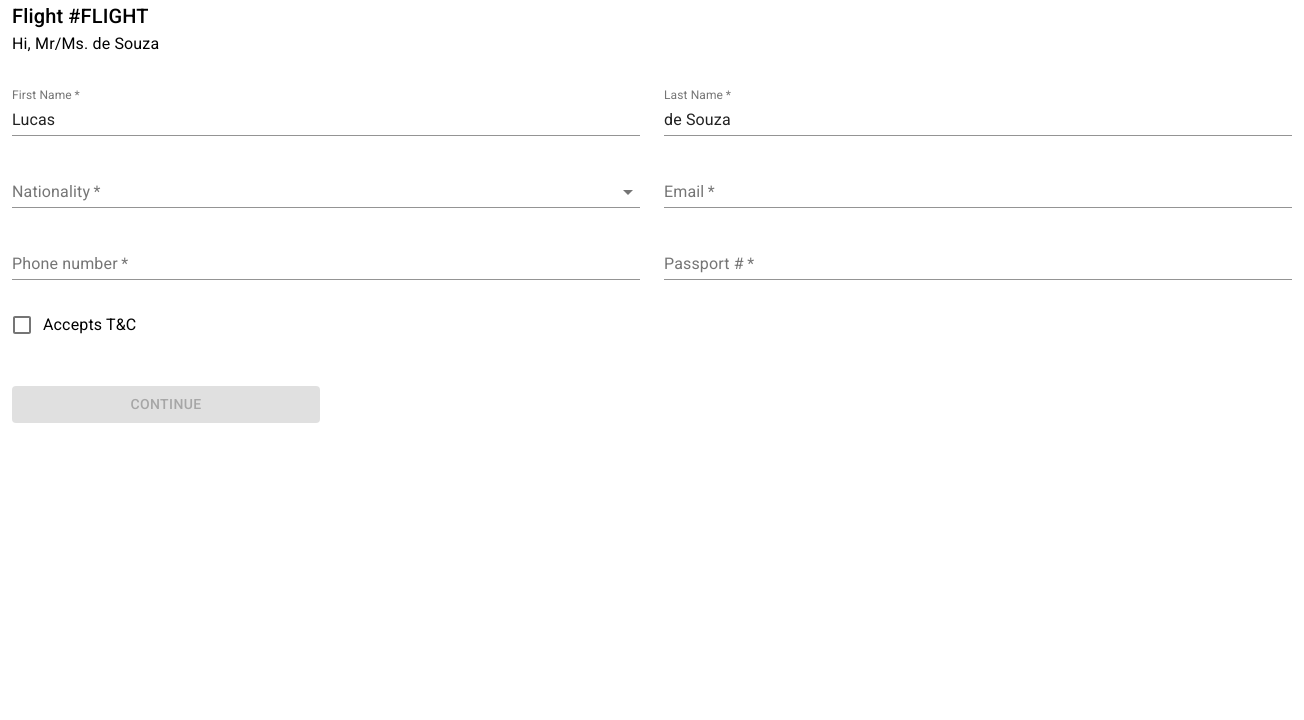
User Info form › should display France extra fields
The width and height of the screenshot is (1304, 720).
Select "France" in the dropdown with test id "nationality" at (326, 192), box x1=12 y1=176 x2=640 y2=208
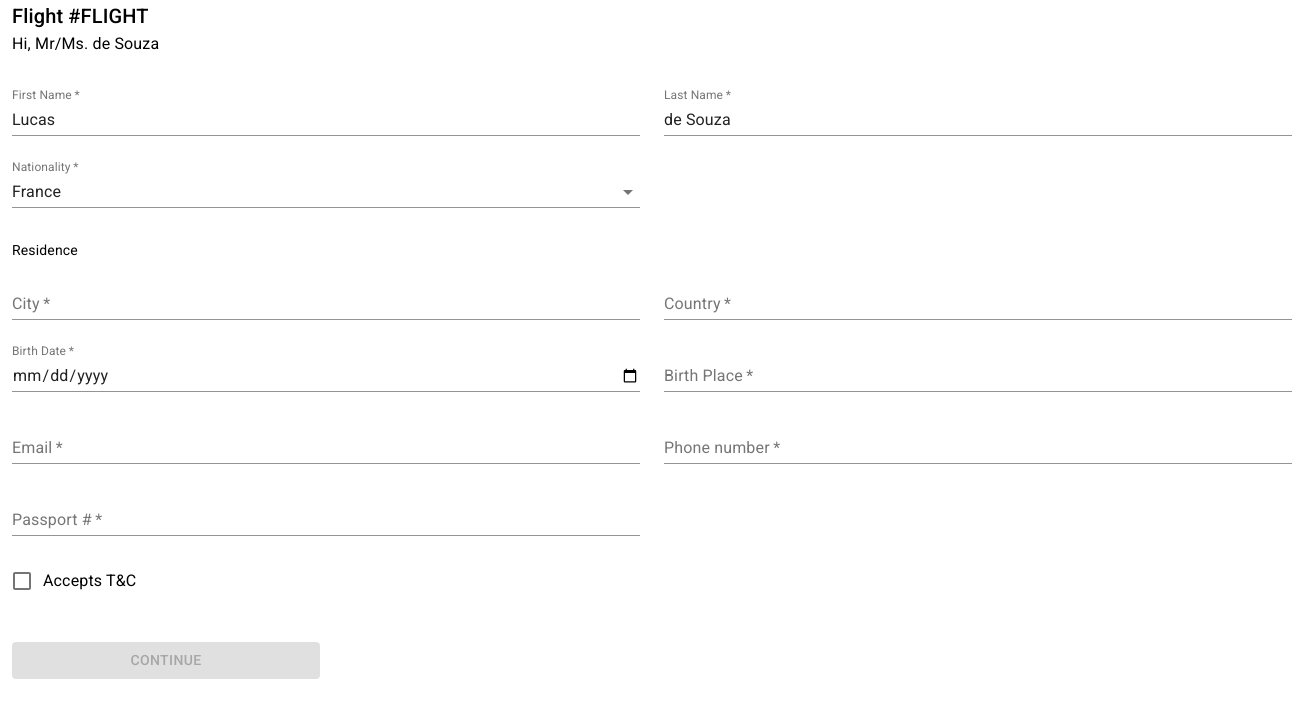
Expected: the date field with test id "birthDate" is shown, x1=12 y1=360 x2=640 y2=392
Expected: the field with test id "birthPlace" is shown, x1=664 y1=360 x2=1292 y2=392
Expected: the field with test id "residenceCountry" is shown, x1=664 y1=288 x2=1292 y2=320
